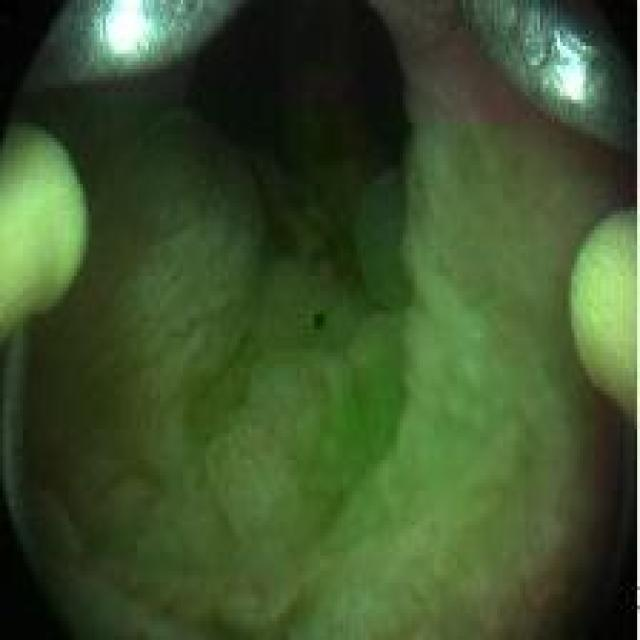color misalignment: (306, 302, 331, 345)
contrast: (158, 5, 413, 273)
instrument: (474, 2, 628, 139), (31, 5, 255, 95), (0, 121, 88, 341), (566, 204, 633, 427)
specularity: (101, 1, 163, 60), (551, 28, 589, 109)
